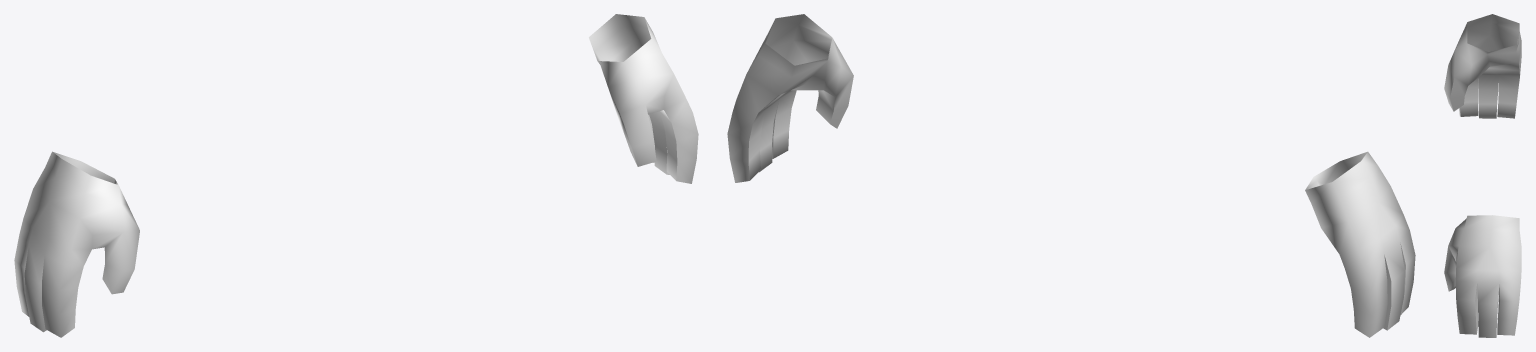
File: hum_medium_d_2252fb4e.glb
3 renders of one model, left to right at view 1: azimuth 30°, elevation 25°; view 2: azimuth 150°, elevation 25°; view 3: azimuth 270°, elevation 25°, orthographic. The views are drawn at different scales.
Size of the model in its own units: 1.7 by 0.3987 by 0.2485.
1 material, 1 textured.
